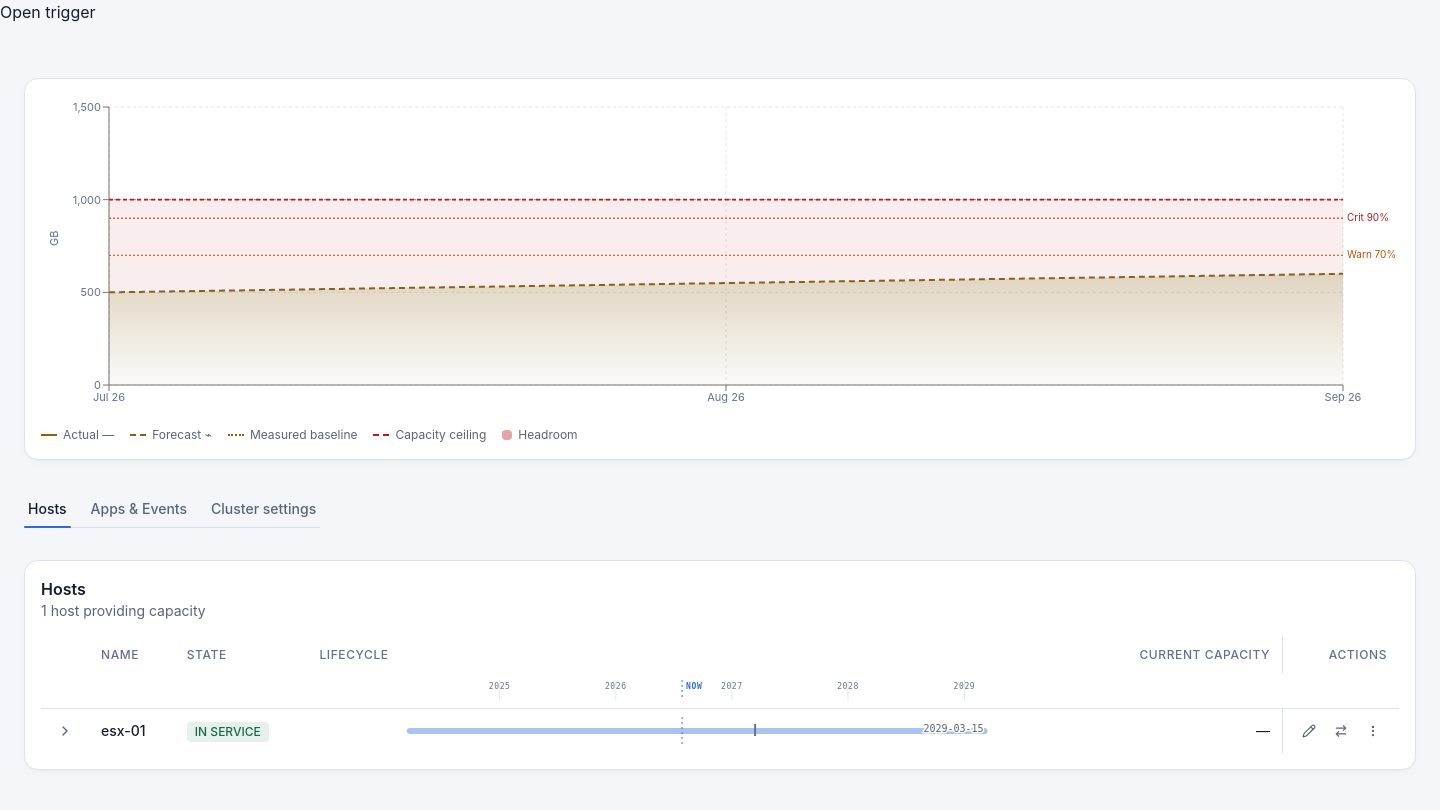
Scenario: <ClusterPanel> › Escape inside a nested host dialog closes only that dialog, not the panel (CRITICAL #1)
(page scrolled)
Expected: the text "esx-01" is shown, [101,722,146,739]
Step 1. Click the button named "More actions" → (1373, 731), box [1359,717,1387,745]
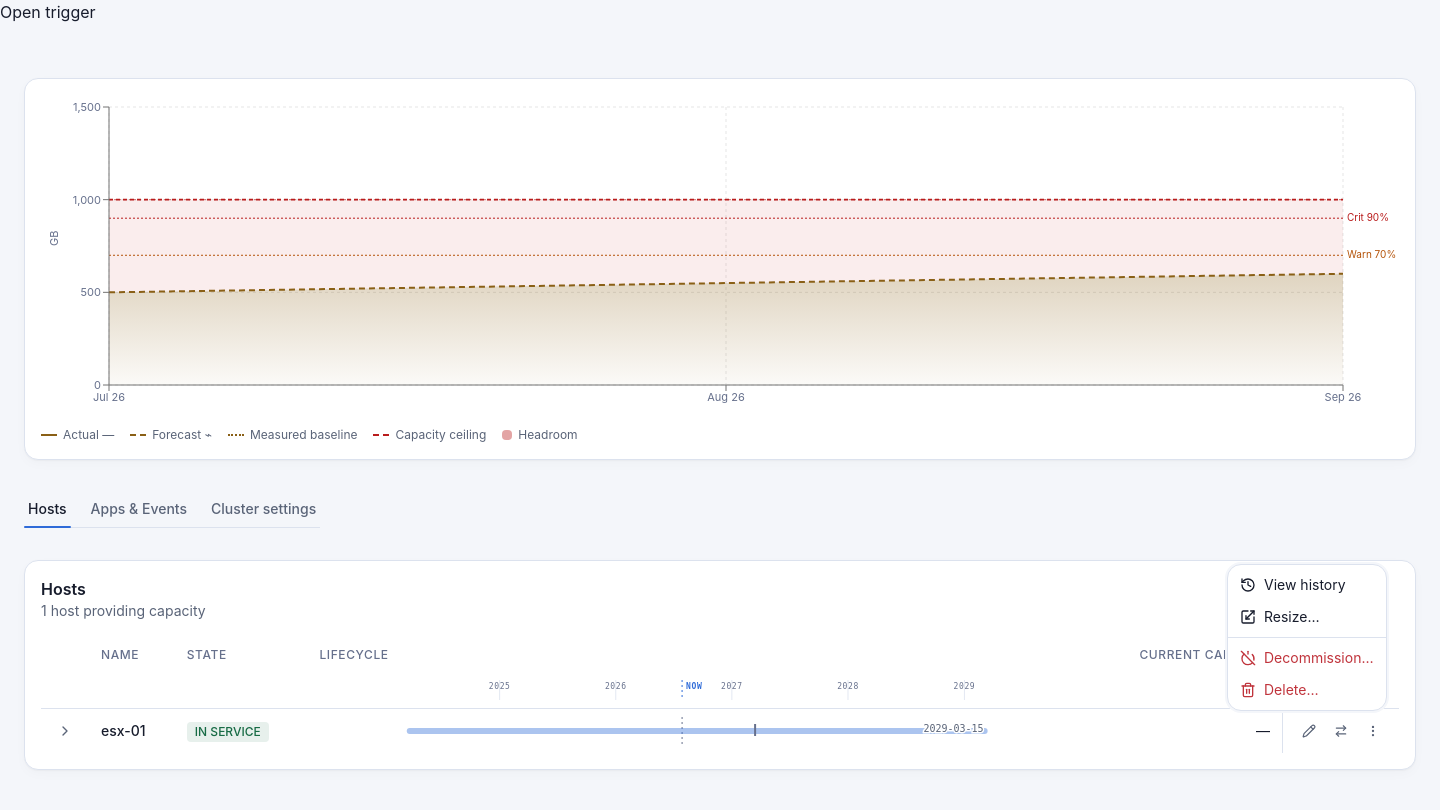
Step 2. Click the menu item "Delete…" → (1279, 690), box [1240,681,1318,698]
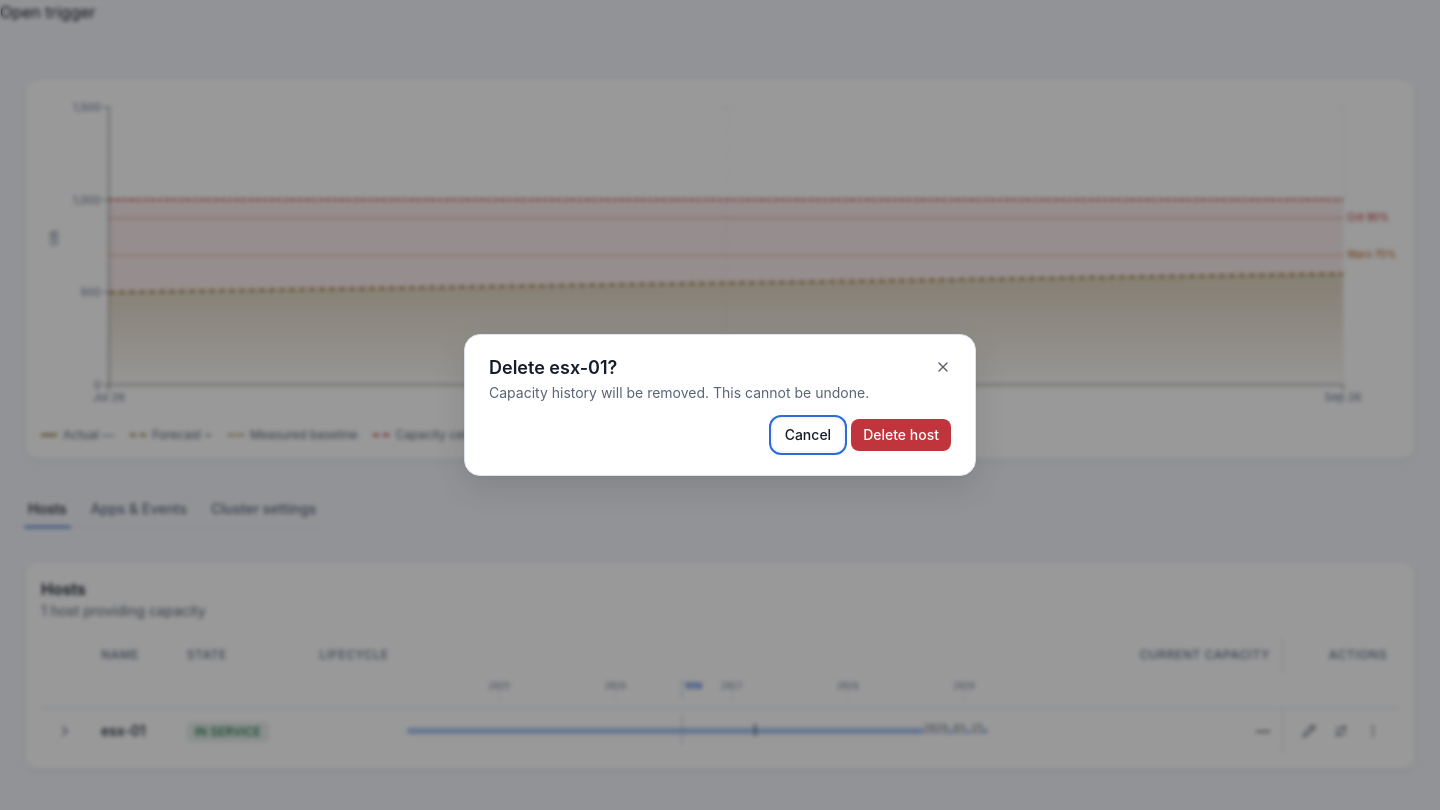
Step 3. Press Escape
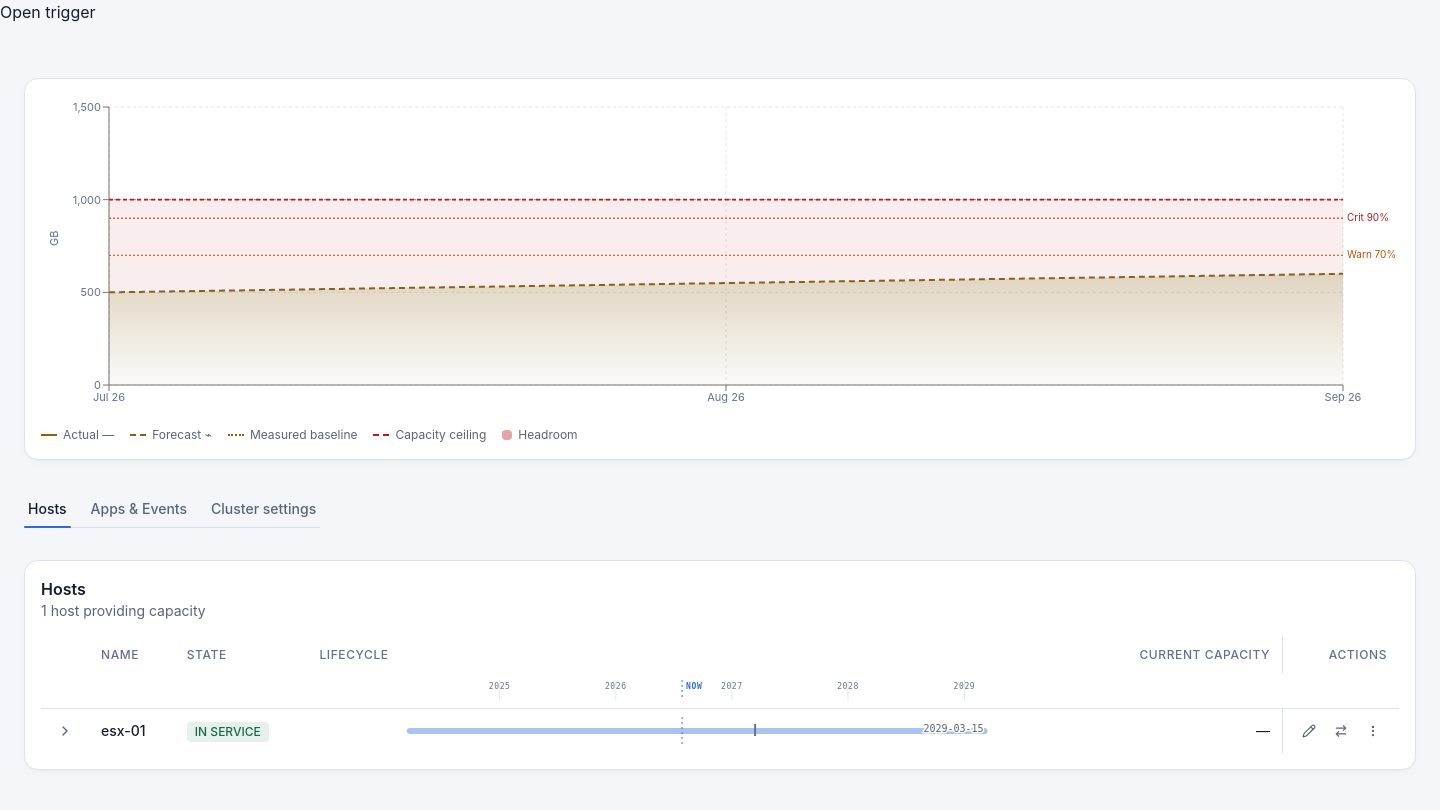
Now the heading "Delete esx-01" is gone
